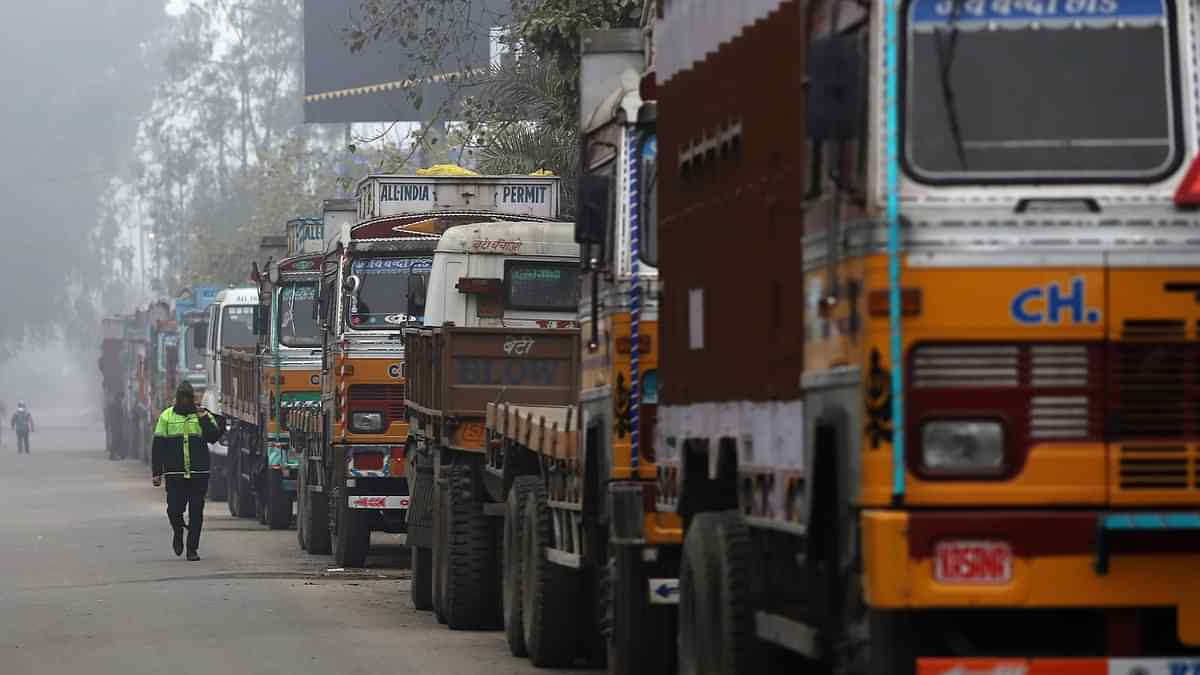truck: (682, 4, 1198, 675), (539, 40, 686, 665), (336, 187, 562, 568), (422, 228, 585, 642), (272, 229, 342, 541)
